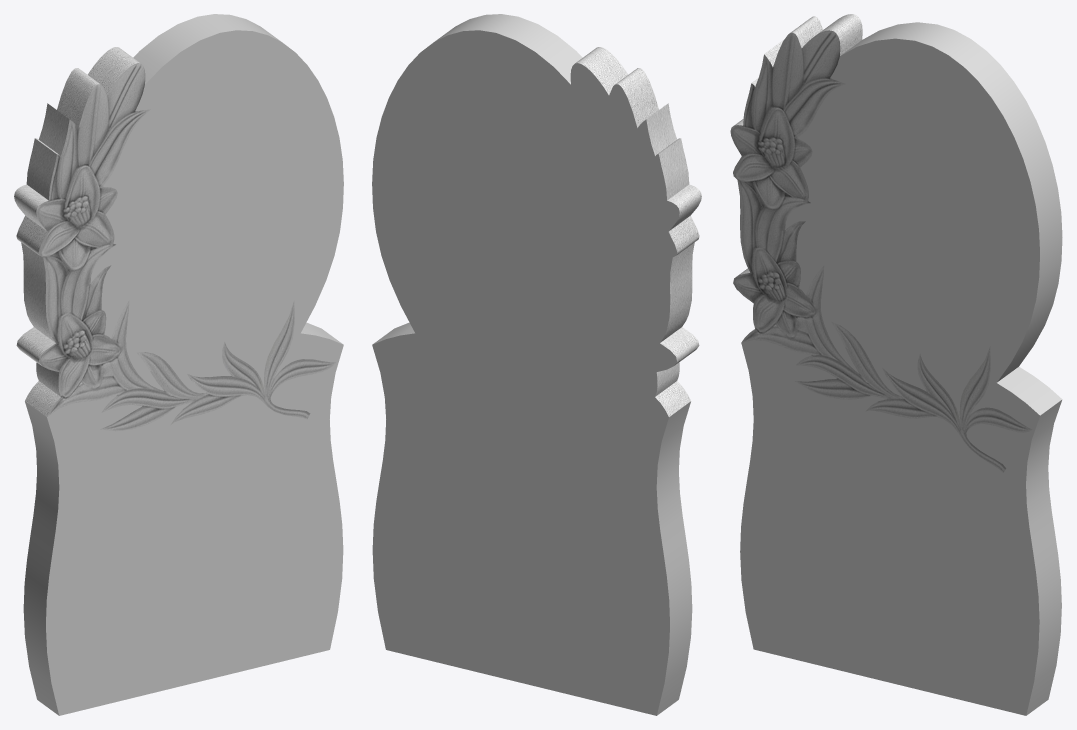
File: cna066c8229f_tkf.glb
3 renders of one model, left to right at view 1: azimuth 30°, elevation 25°; view 2: azimuth 150°, elevation 25°; view 3: azimuth 330°, elevation 25°, orthographic.
Parts seen in each view (by area): view 1: Pam-d01-143, Pam-d01-143_2_notexture; view 2: Pam-d01-143, Pam-d01-143_2_notexture; view 3: Pam-d01-143, Pam-d01-143_2_notexture.
Part boxes in pixels (x1,y1,x2,y2): Pam-d01-143: [23, 14, 343, 715]; Pam-d01-143_2_notexture: [14, 47, 335, 431]; Pam-d01-143: [372, 14, 692, 715]; Pam-d01-143_2_notexture: [575, 47, 701, 416]; Pam-d01-143: [740, 22, 1062, 715]; Pam-d01-143_2_notexture: [730, 14, 1032, 472].
Size of the model in its own units: 0.4 by 0.8 by 0.05.
1 material, 1 textured.
